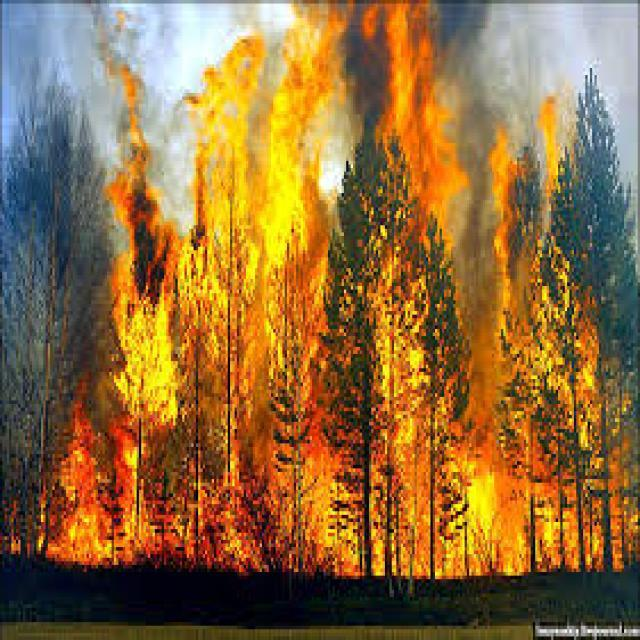Smoke: (5, 0, 640, 577)
